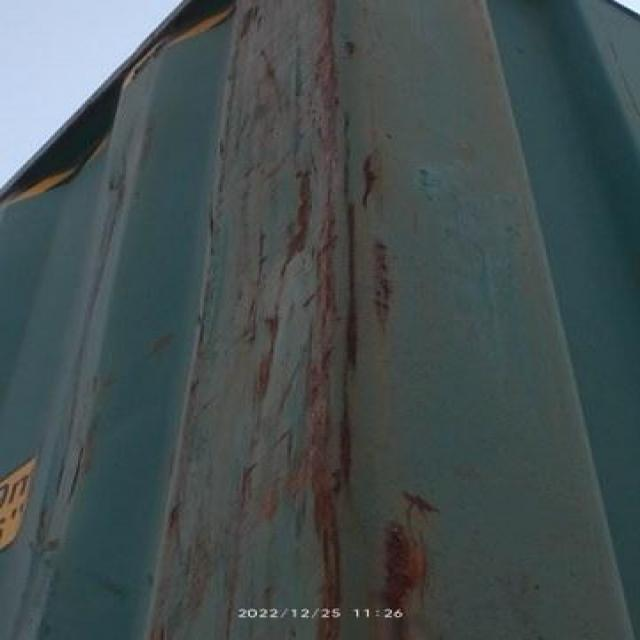Rust: (258, 260, 357, 487), (370, 503, 438, 604), (302, 506, 350, 615), (360, 132, 376, 203)
